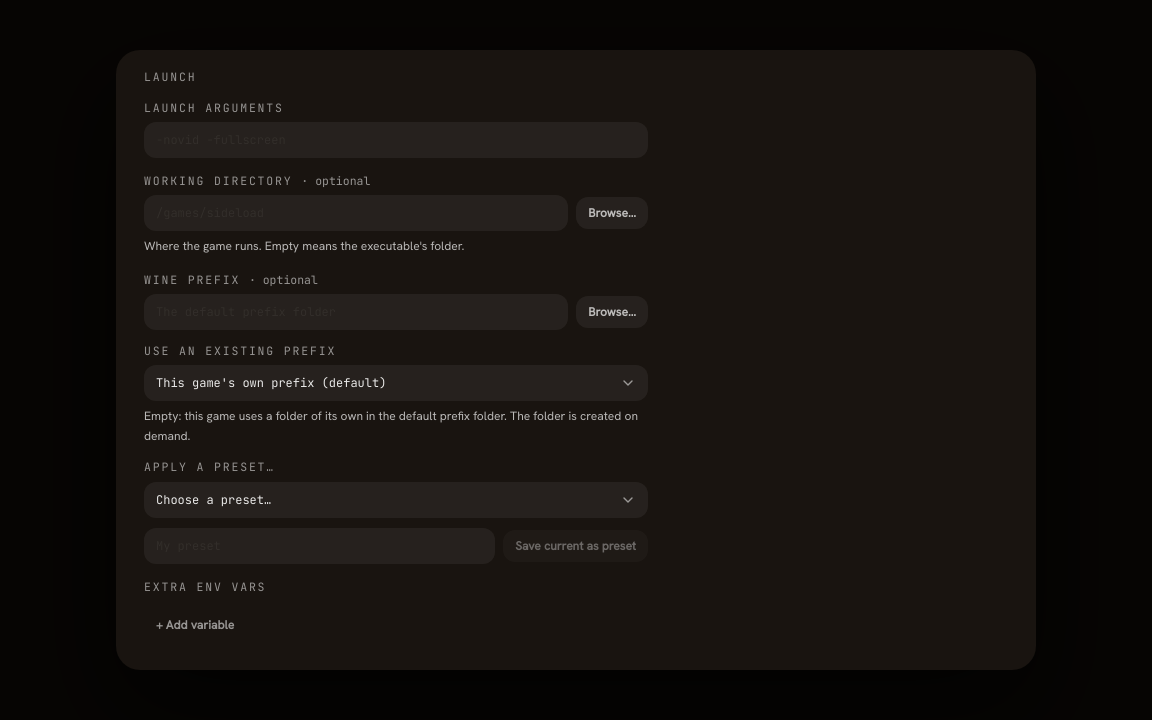
Test: Applying a preset › says already applied for the preset the game records, without applying
(page scrolled)
Press the mouse on the dropdown named "Apply a preset…" at x=214, y=500, box top-left (144, 482), bottom-right (648, 518)
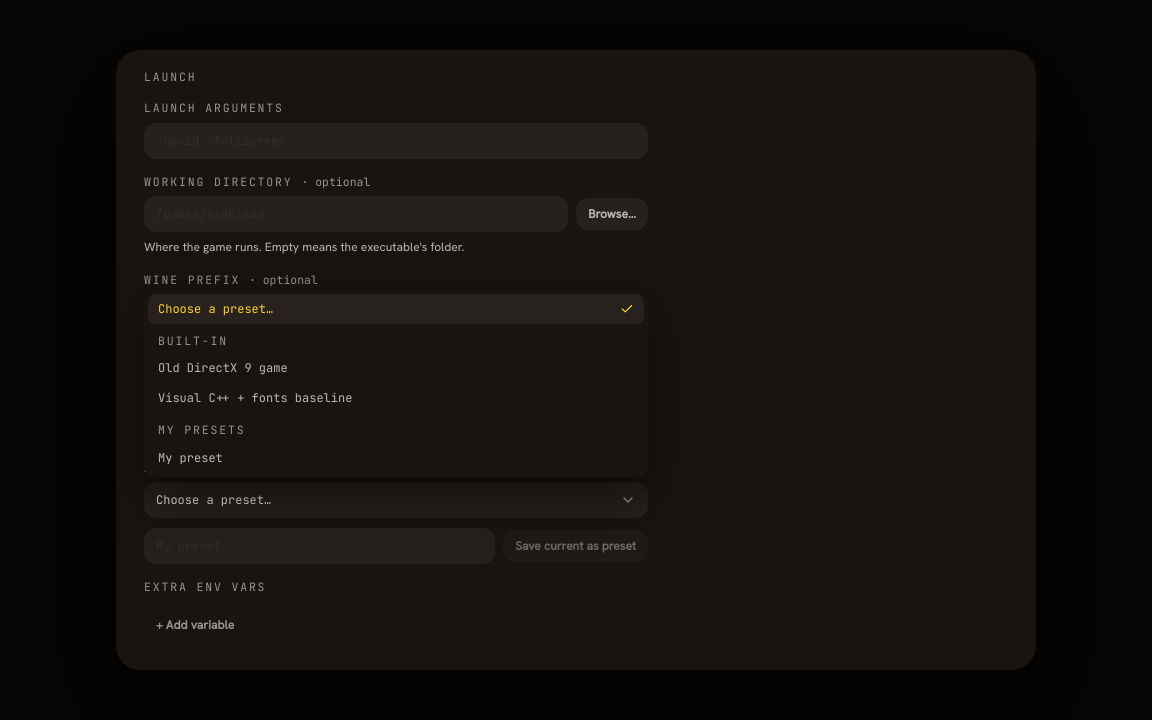
Click the option "My preset" at x=190, y=458, box top-left (158, 450), bottom-right (223, 466)
(page scrolled)
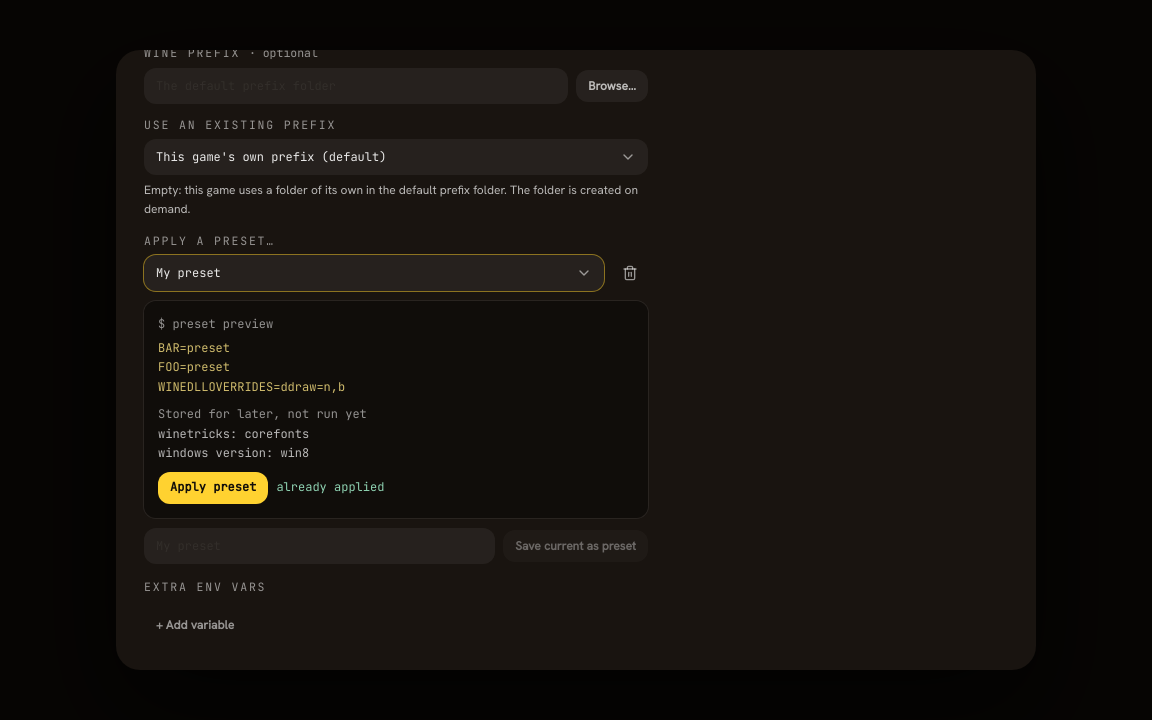
Expected: the text "already applied" is shown, top-left (276, 478), bottom-right (384, 497)
